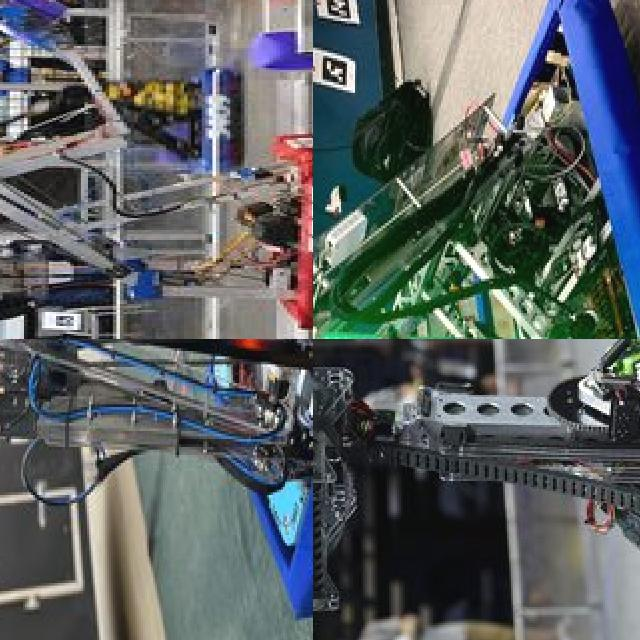FRC-Robots: (313, 0, 640, 339), (0, 0, 313, 339), (313, 339, 640, 640), (0, 339, 313, 640)
